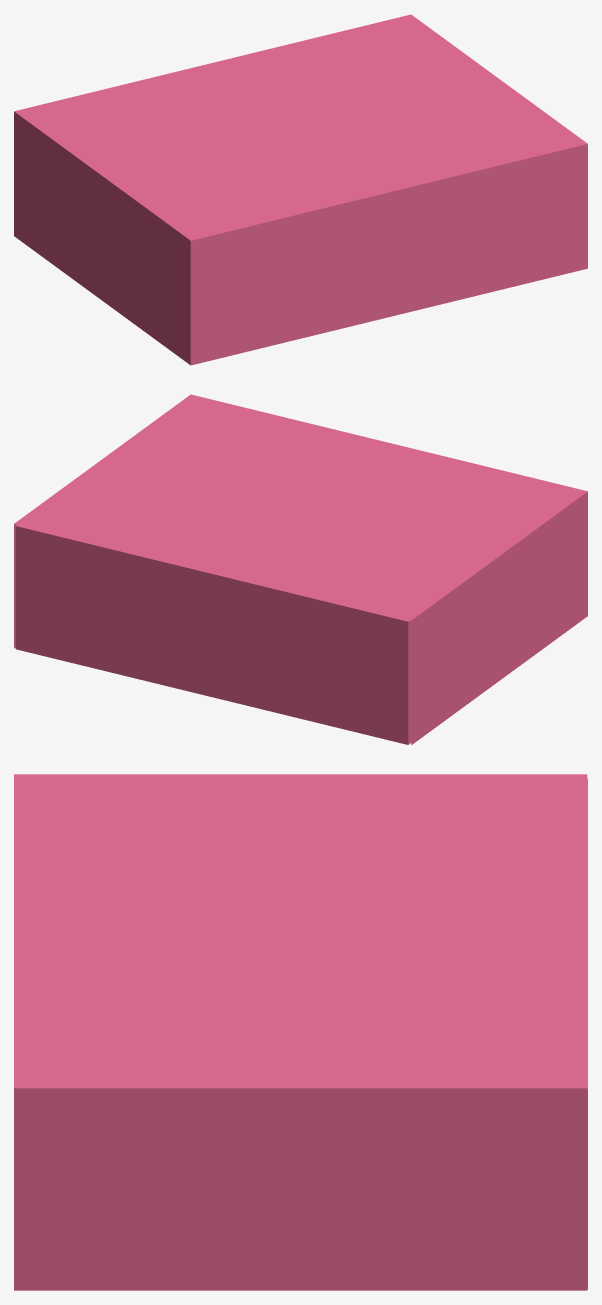
File: Bakery_Box_A.FBX
The picture shows the model from 3 angles, top to bottom: view 1: azimuth 30°, elevation 25°; view 2: azimuth 150°, elevation 25°; view 3: azimuth 270°, elevation 25°; orthographic projection. The views are drawn at different scales.
Visible parts, largest first — view 1: Lid; view 2: Lid, Bakery_Box; view 3: Lid.
Part boxes in pixels (left/top/right/bottom): Lid: left=14, top=14, right=587, bottom=365; Lid: left=14, top=394, right=587, bottom=744; Bakery_Box: left=15, top=524, right=411, bottom=744; Lid: left=14, top=774, right=587, bottom=1290.
Bounding box in the file's own units: 152 × 45.57 × 117.
